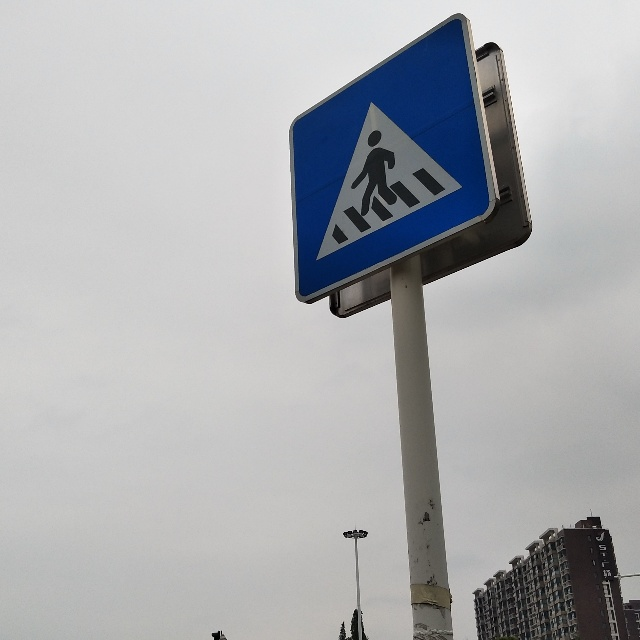crosswalk: (315, 98, 469, 259)
